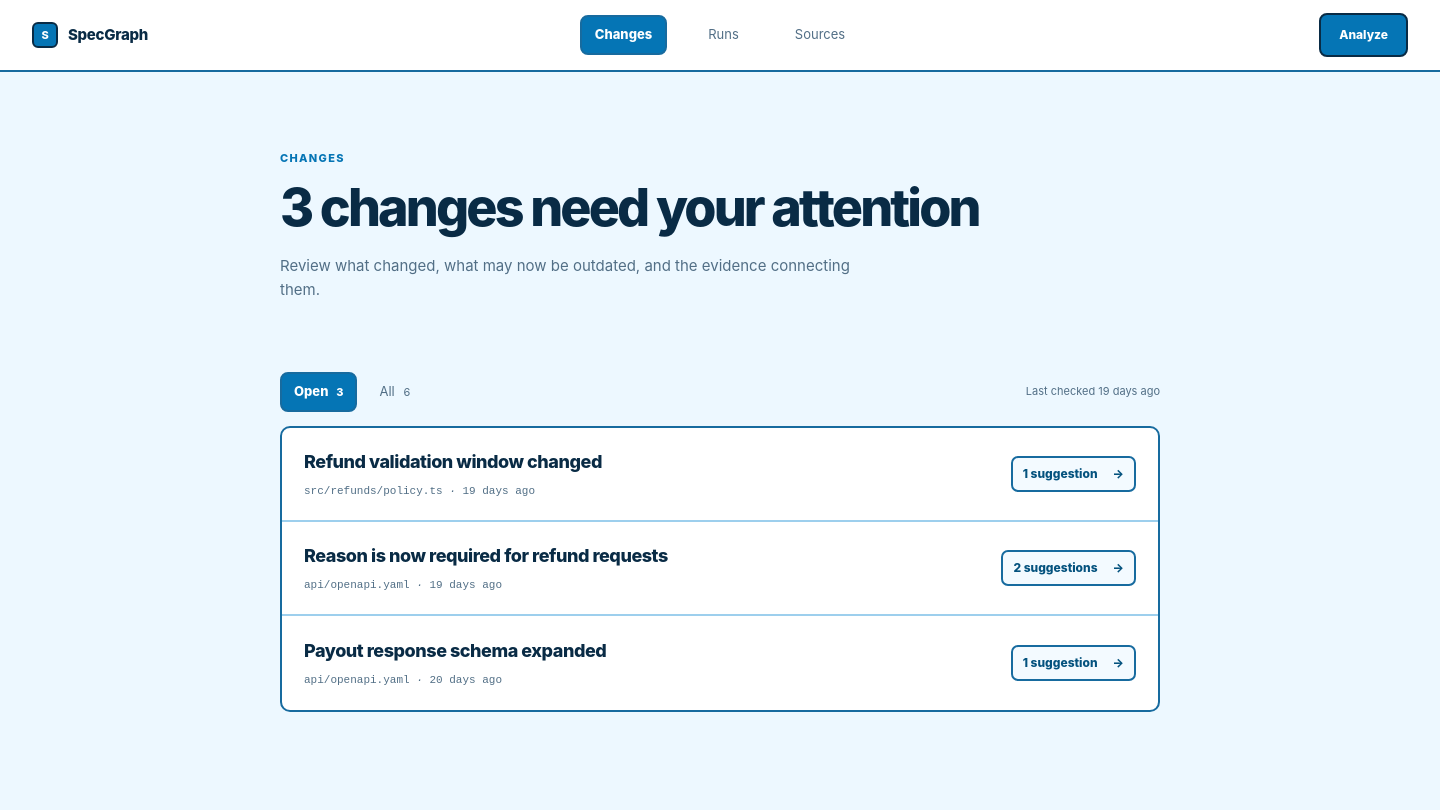
Scenario: SpecGraphApp › persists one suggestion review without silently closing the whole change
Click the button "Refund validation window changed": (453, 461) [282, 428, 1158, 522]
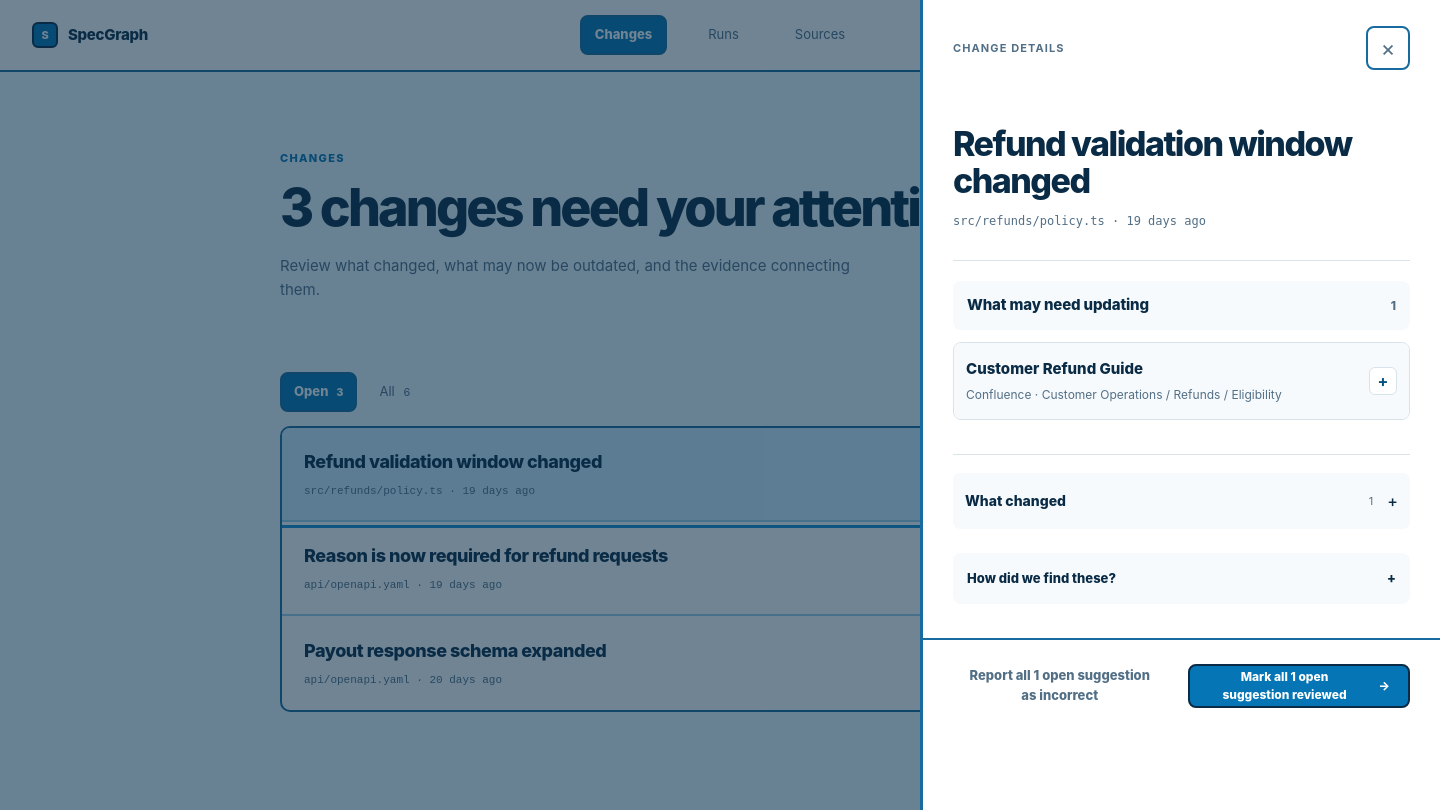
Click the button "Customer Refund Guide": (1055, 369) [954, 343, 1409, 419]
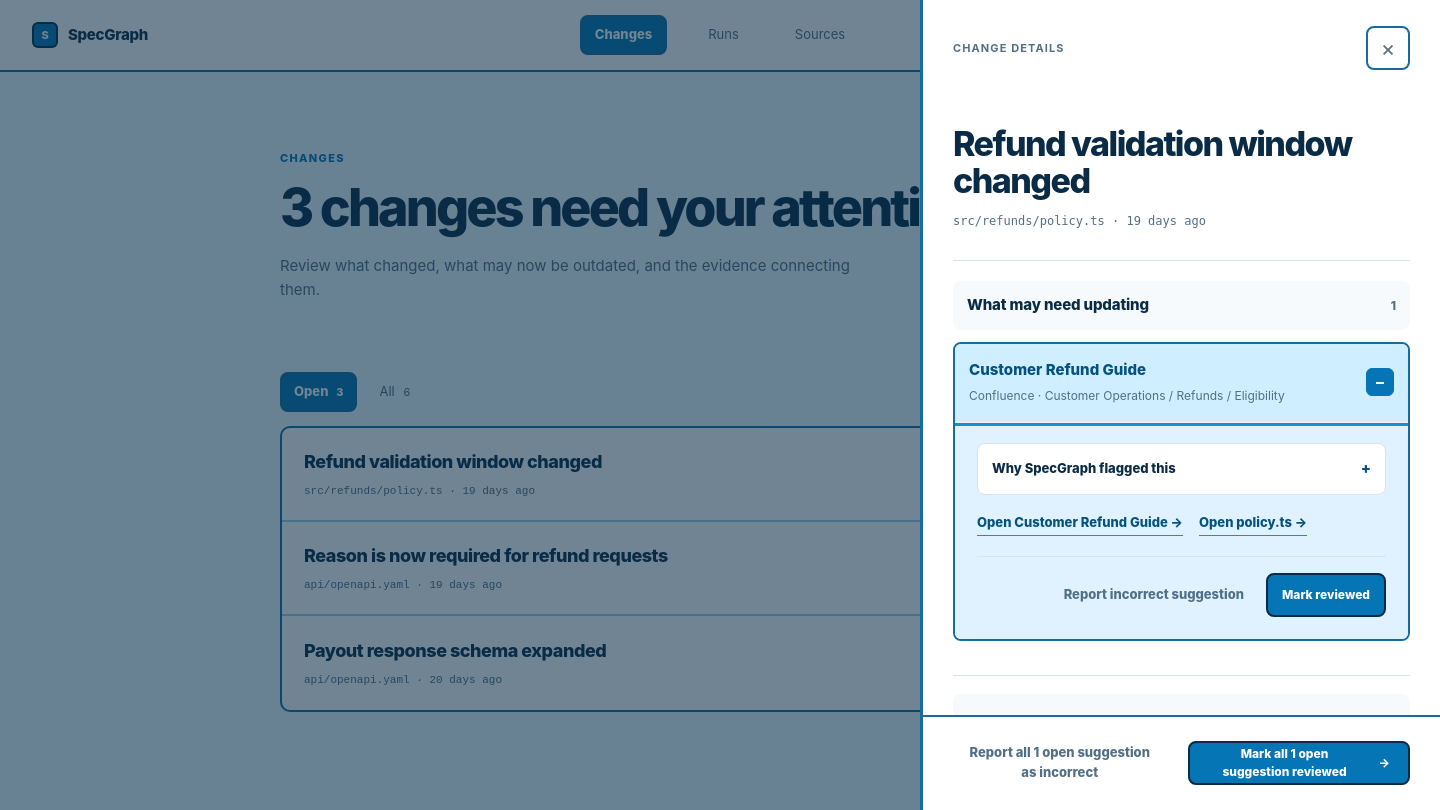
Click the button "Mark reviewed": (1326, 595) [1266, 573, 1386, 617]
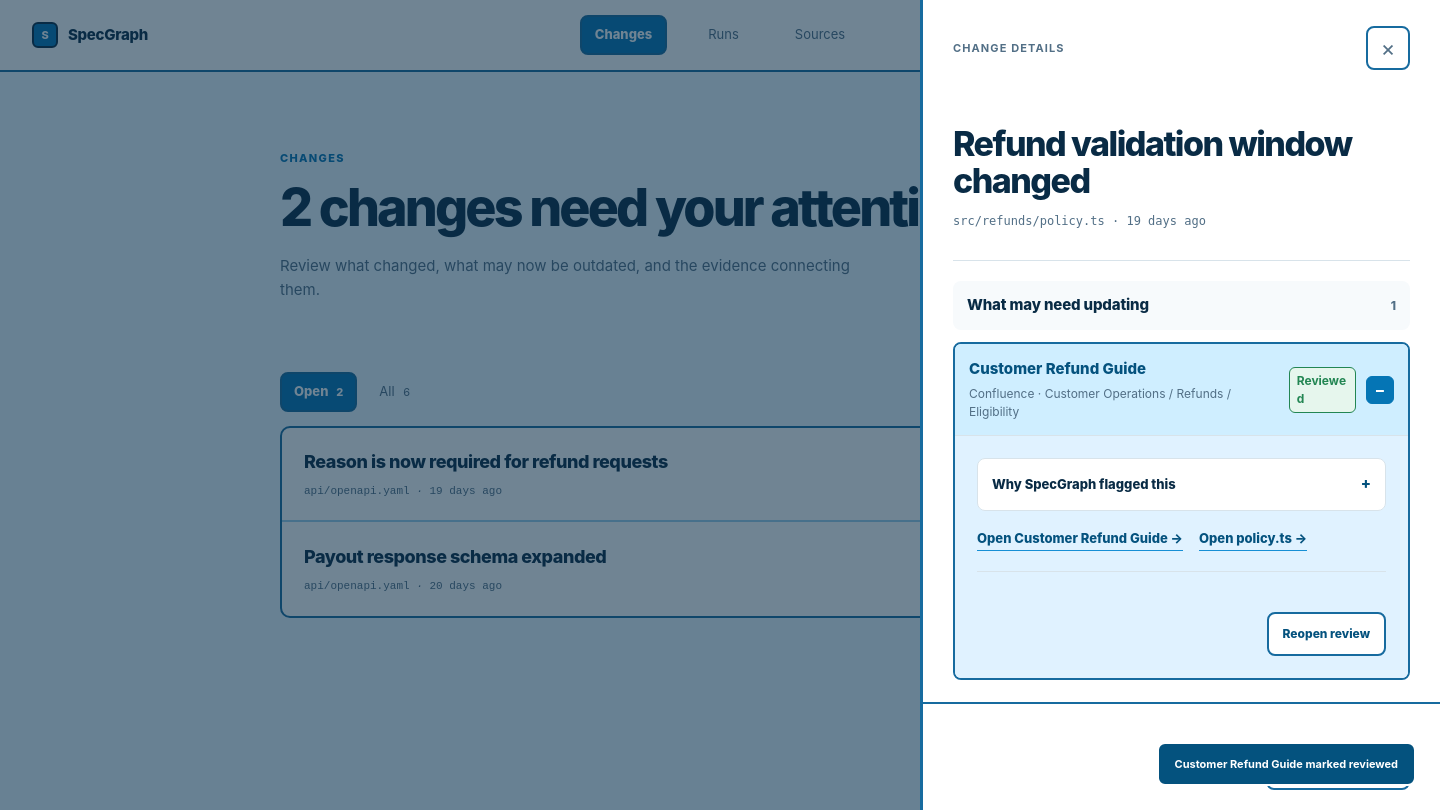
Result: the text "Reviewed" is shown at [1289, 367, 1356, 413]
Result: the button "Reopen review" is shown at [1266, 612, 1386, 656]
Result: the button "Reopen all 1 review" is shown at [1266, 746, 1410, 790]
Click the button named "Close change details": (1388, 48) [1366, 26, 1410, 70]
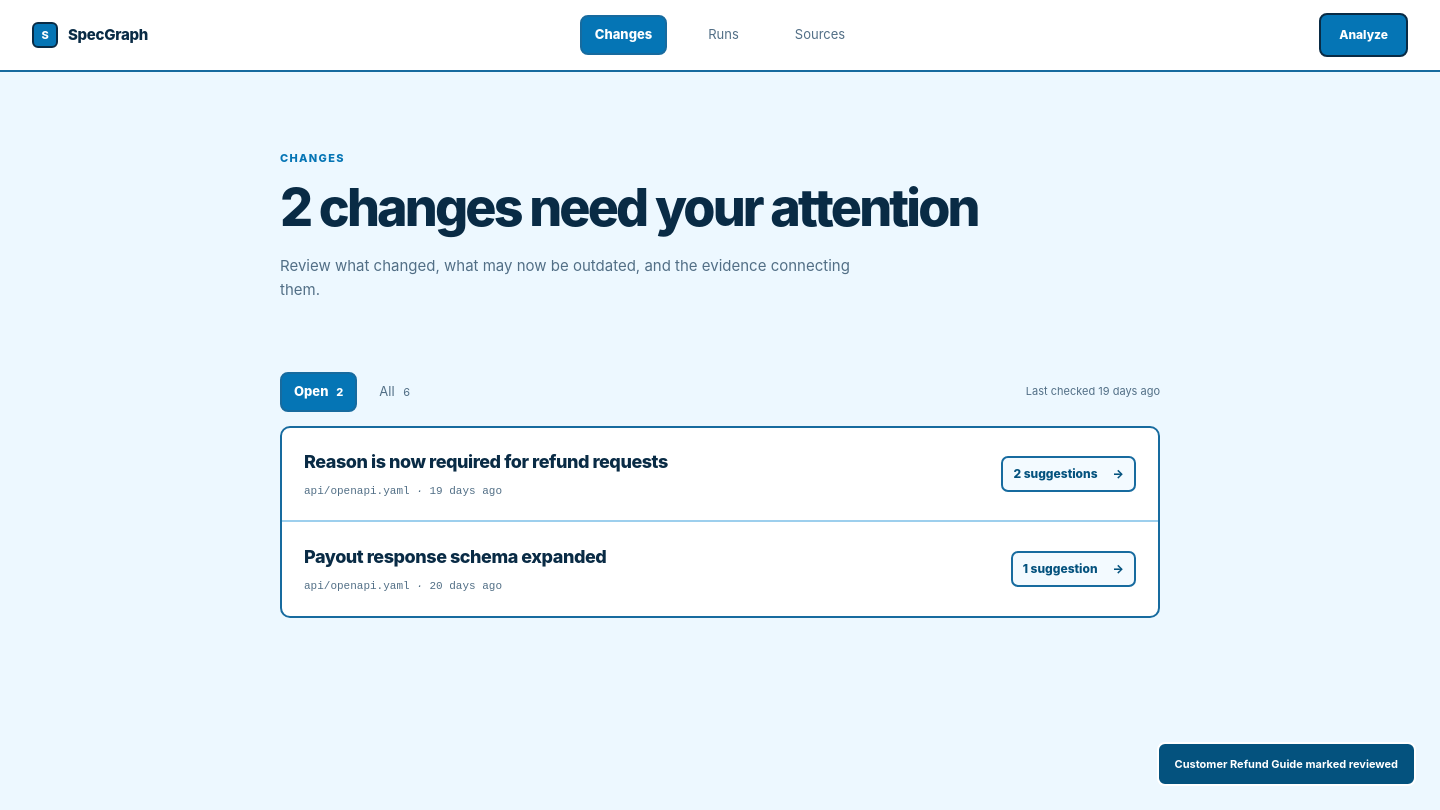
Result: the heading "Refund validation window changed" is gone
